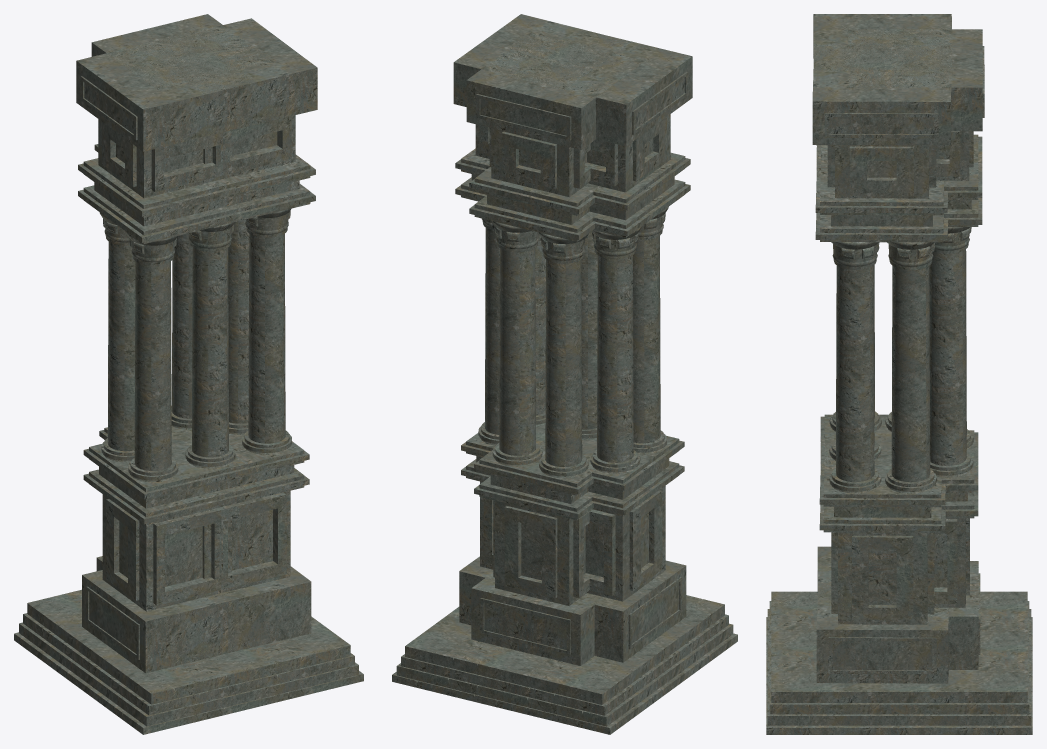
The model's file is Pilars.fbx.
3 renders of one model, left to right at view 1: azimuth 30°, elevation 25°; view 2: azimuth 150°, elevation 25°; view 3: azimuth 270°, elevation 25°, orthographic. The views are drawn at different scales.
Visible parts, largest first — view 1: Pillar2; view 2: Pillar2; view 3: Pillar2.
Boxes of the visible parts, left/top/right/bottom form: Pillar2: left=14, top=14, right=363, bottom=734; Pillar2: left=392, top=14, right=737, bottom=734; Pillar2: left=766, top=14, right=1032, bottom=734.
Size of the model in its own units: 13.49 by 35.22 by 13.68.
Materials: 1 (1 with a texture image).
